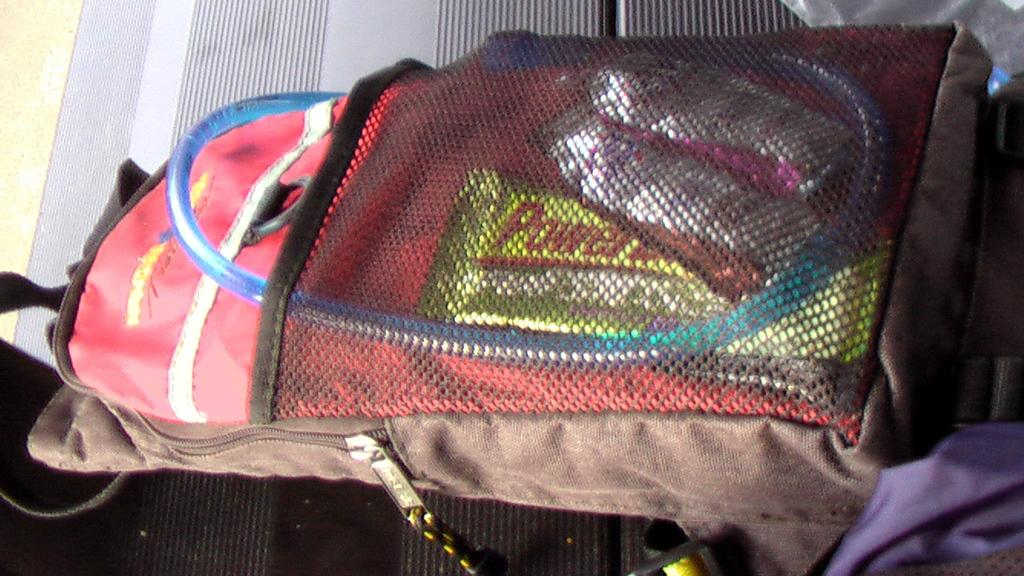Luggage-and-bags: (56, 19, 969, 549)
